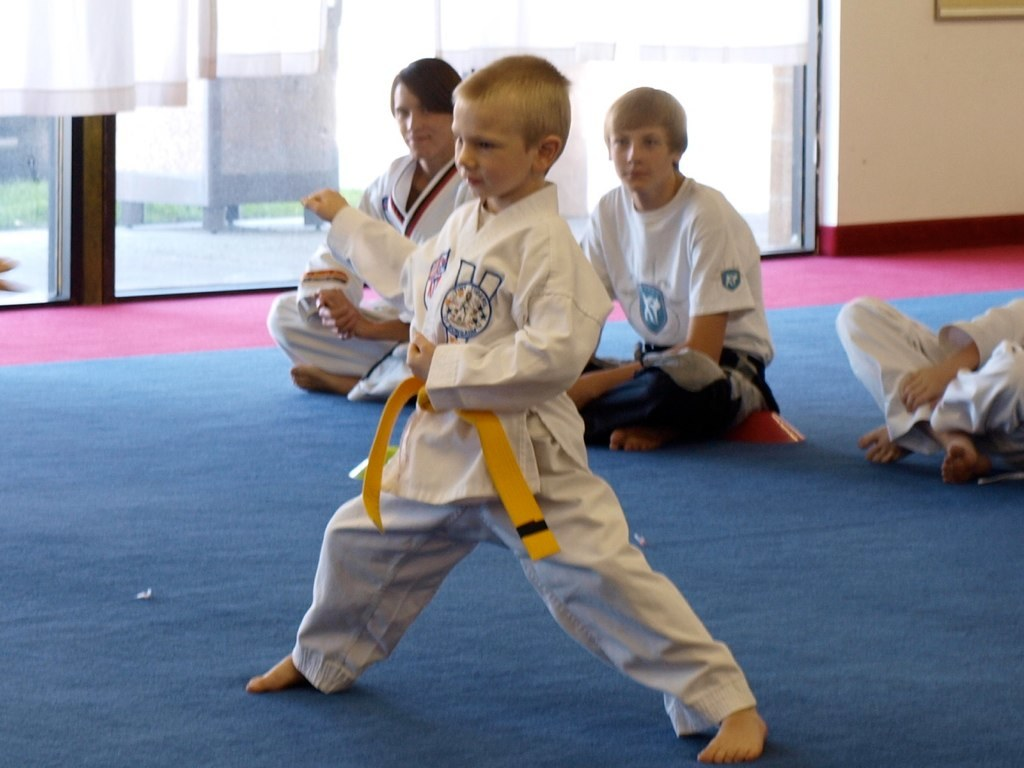Person: (263, 55, 478, 392), (831, 299, 1024, 484)
